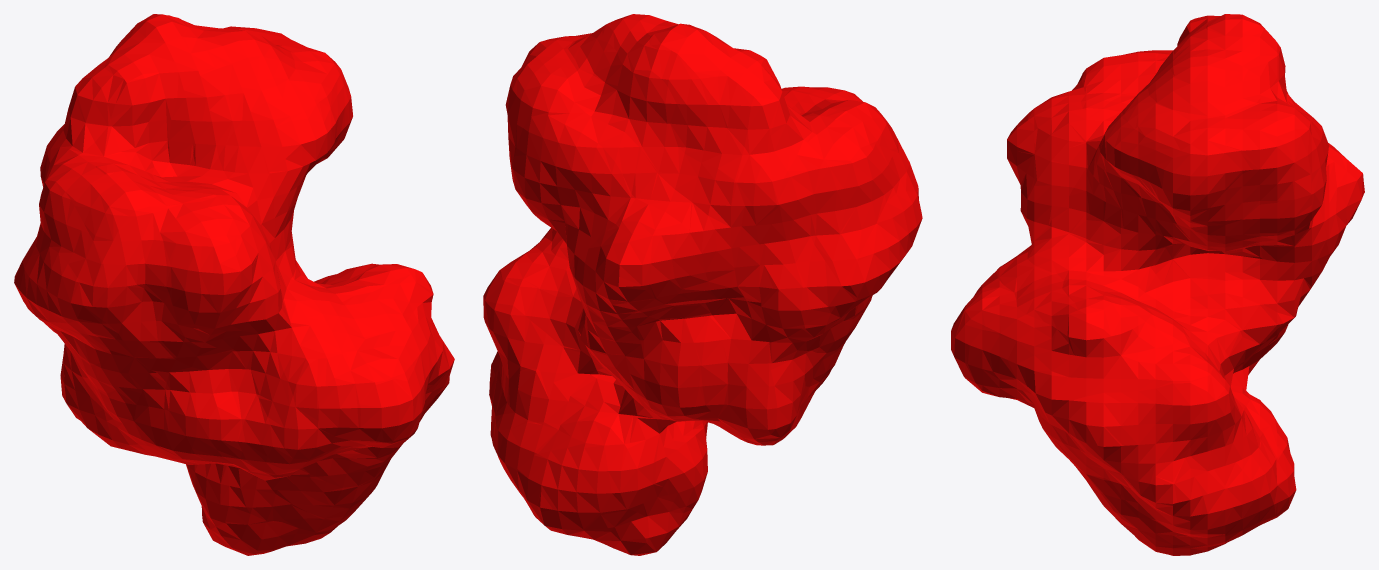
File: ygiF_coarse.dae
3 renders of one model, left to right at view 1: azimuth 30°, elevation 25°; view 2: azimuth 150°, elevation 25°; view 3: azimuth 270°, elevation 25°, orthographic. The views are drawn at different scales.
Visible parts, largest first — view 1: ygiF; view 2: ygiF; view 3: ygiF.
Boxes of the visible parts, left/top/right/bottom form: ygiF: left=14, top=14, right=454, bottom=555; ygiF: left=483, top=14, right=922, bottom=555; ygiF: left=951, top=14, right=1364, bottom=555.
Bounding box in the file's own units: 61.46 × 80.89 × 61.6.
